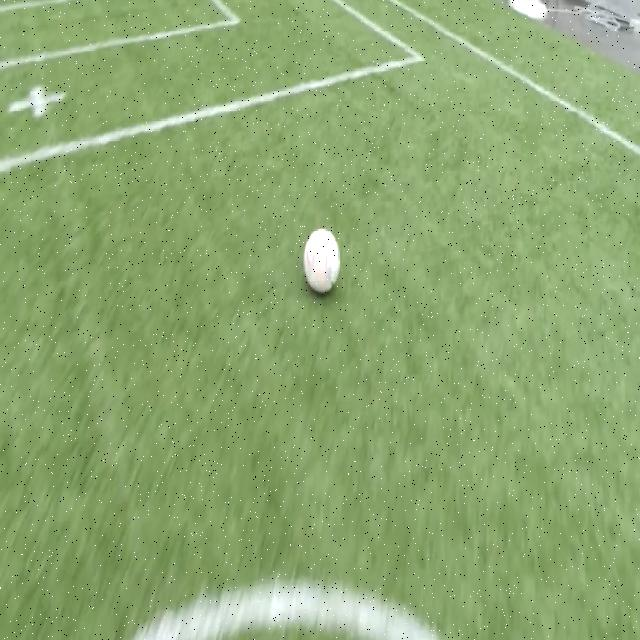ball: (304, 229, 340, 292)
